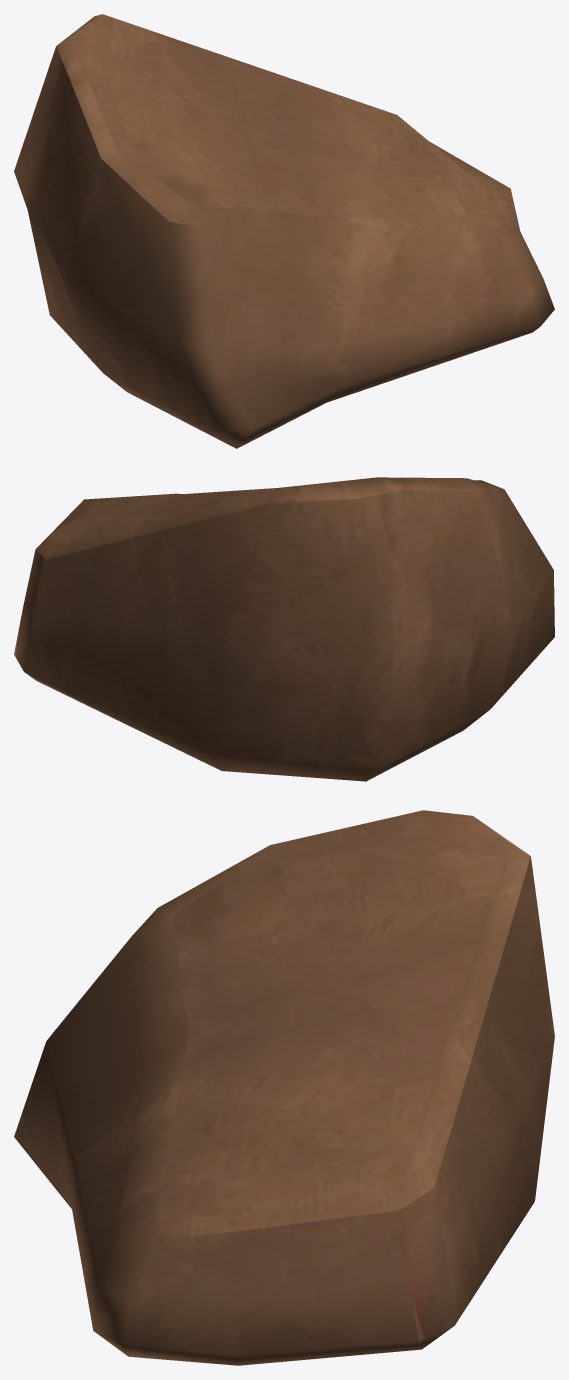
The model's file is pm-stone-04.glb.
3 views of the same model, one above another, from view 1: azimuth 30°, elevation 25°; view 2: azimuth 150°, elevation 25°; view 3: azimuth 270°, elevation 25° (orthographic). The views are drawn at different scales.
Visible parts, largest first — view 1: Stone04; view 2: Stone04; view 3: Stone04.
Boxes of the visible parts, x1,y1,x2,y2 form: Stone04: (14,14,554,448); Stone04: (14,477,554,781); Stone04: (14,810,554,1365).
Size of the model in its own units: 1.58 by 1.02 by 1.33.
1 material, 1 textured.
